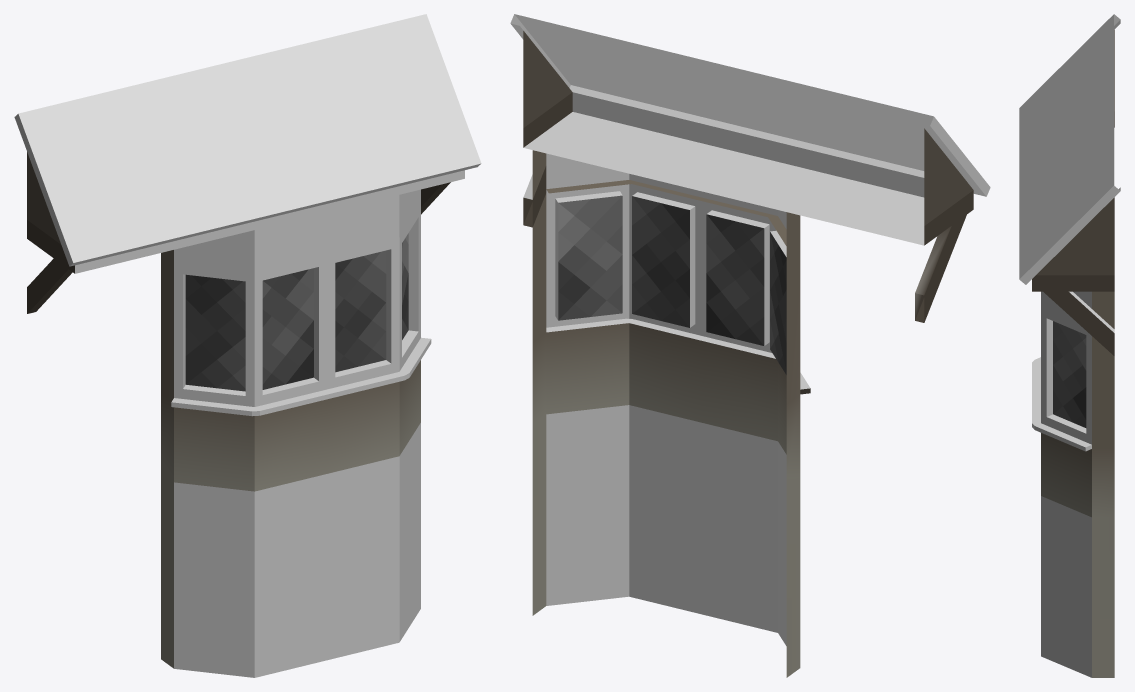
The model's file is Front_1.fbx.
The picture shows the model from 3 angles, left to right: view 1: azimuth 30°, elevation 25°; view 2: azimuth 150°, elevation 25°; view 3: azimuth 270°, elevation 25°; orthographic projection. The views are drawn at different scales.
Visible parts, largest first — view 1: Front_A.001, Front_A.004, Front_A.003, Front_A.014, Front_A.007, Front_A.002, Front_A.015, Front_A.017, Front_A.016, Front_A.005, Front_A.012, Front_A.019 (+4 smaller); view 2: Front_A.004, Front_A.003, Front_A.001, Front_A.010, Front_A.014, Front_A.018, Front_A.012, Front_A.016, Front_A.008, Front_A.005, Front_A.017, Front_A.006 (+7 smaller); view 3: Front_A.001, Front_A.006, Front_A.004, Front_A.008, Front_A.003, Front_A.018, Front_A.007, Front_A.014, Front_A.009, Front_A.011, Front_A.019, Front_A.002 (+1 smaller).
Part boxes in pixels (x1,y1,x2,y2): Front_A.001: (31, 26, 468, 251); Front_A.004: (174, 423, 420, 677); Front_A.003: (174, 360, 420, 491); Front_A.014: (174, 204, 420, 406); Front_A.007: (18, 14, 481, 262); Front_A.002: (174, 189, 420, 272); Front_A.015: (185, 274, 245, 391); Front_A.017: (335, 250, 386, 372); Front_A.016: (262, 268, 313, 389); Front_A.005: (161, 250, 173, 668); Front_A.012: (75, 170, 464, 273); Front_A.019: (171, 337, 431, 416); Front_A.004: (546, 405, 786, 645); Front_A.003: (546, 323, 786, 454); Front_A.001: (528, 21, 931, 167); Front_A.010: (523, 112, 924, 245); Front_A.014: (546, 184, 786, 352); Front_A.018: (558, 195, 622, 320); Front_A.012: (572, 92, 924, 197); Front_A.016: (706, 214, 764, 345); Front_A.008: (523, 31, 973, 245); Front_A.005: (786, 212, 800, 677); Front_A.017: (632, 196, 689, 327); Front_A.006: (532, 150, 546, 615); Front_A.001: (1025, 24, 1107, 269); Front_A.006: (1092, 291, 1114, 677); Front_A.004: (1041, 496, 1091, 677); Front_A.008: (1032, 30, 1114, 291); Front_A.003: (1041, 433, 1091, 517); Front_A.018: (1053, 321, 1086, 427); Front_A.007: (1019, 14, 1113, 278); Front_A.014: (1041, 307, 1091, 444); Front_A.009: (1043, 291, 1114, 355); Front_A.011: (1019, 14, 1120, 284); Front_A.019: (1032, 357, 1091, 451); Front_A.002: (1041, 291, 1091, 322).
Bounding box in the file's own units: 449 × 610 × 112.
